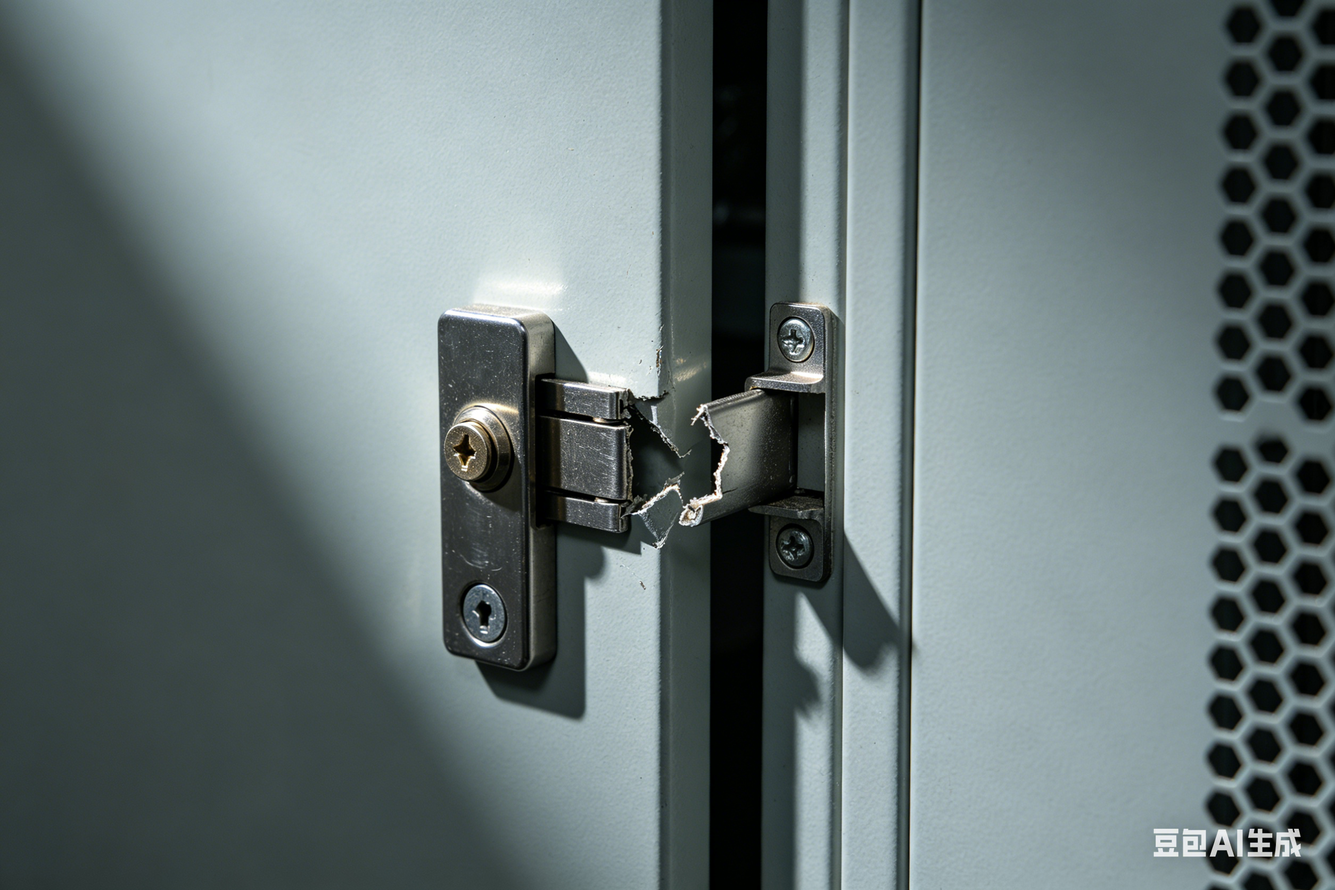BadLock: (579, 374, 765, 552)
